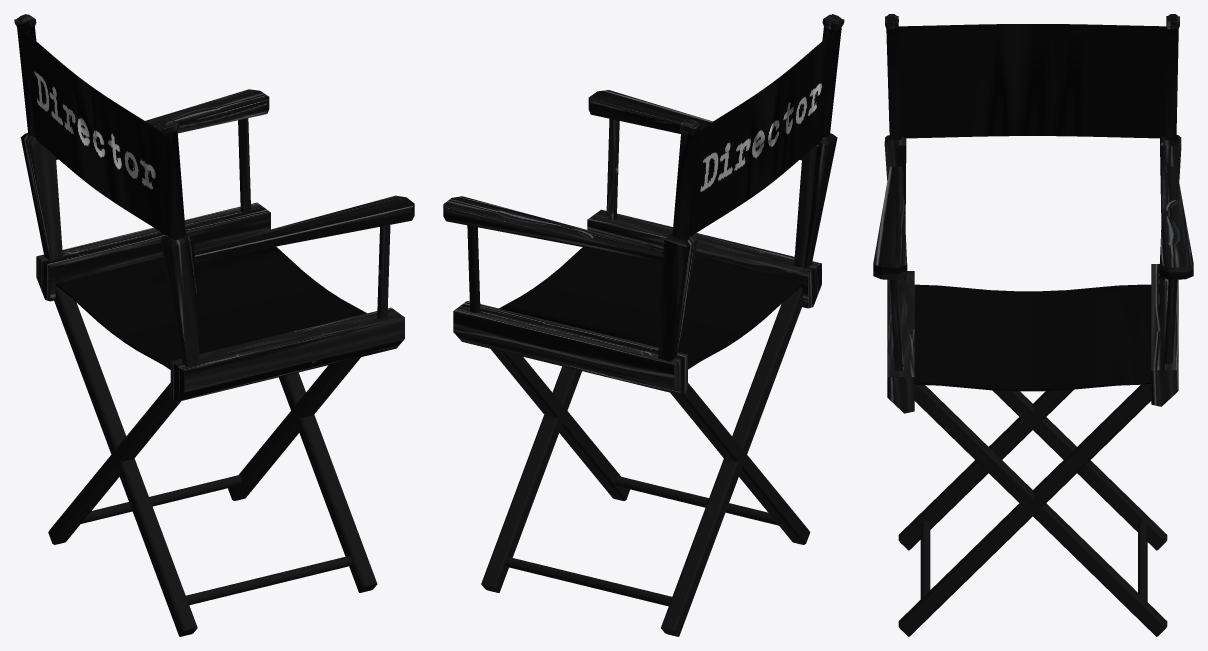
Rendered from director_chair.glb.
3 views of the same model, side by side, from view 1: azimuth 30°, elevation 25°; view 2: azimuth 150°, elevation 25°; view 3: azimuth 270°, elevation 25° (orthographic).
Parts seen in each view (by area): view 1: directors_chair; view 2: directors_chair; view 3: directors_chair.
Boxes of the visible parts, x1=… form: directors_chair: x1=14, y1=14, x2=414, y2=636; directors_chair: x1=443, y1=14, x2=844, y2=636; directors_chair: x1=873, y1=14, x2=1193, y2=636.
Size of the model in its own units: 0.5139 by 1.03 by 0.5758.
Materials: 1 (1 with a texture image).
